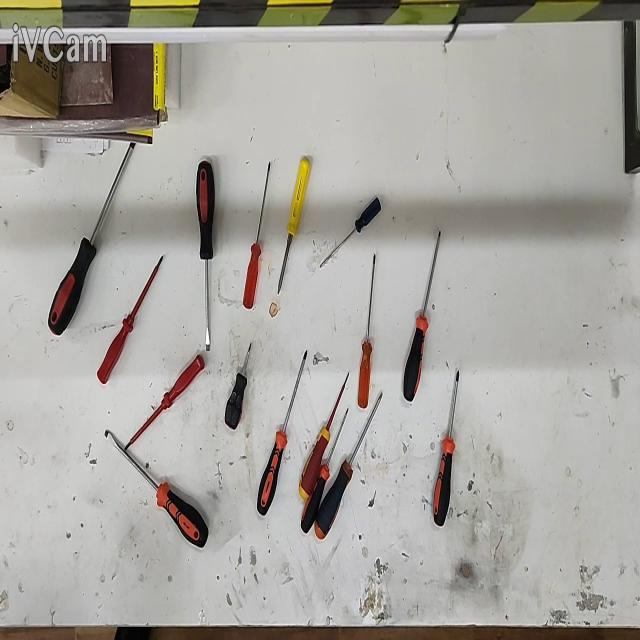Screwdriver: (48, 142, 135, 336), (105, 429, 209, 548), (314, 391, 382, 540), (98, 256, 162, 383), (258, 351, 307, 516), (124, 356, 204, 450), (404, 231, 441, 402), (299, 373, 348, 501), (301, 409, 348, 533), (320, 195, 381, 270), (278, 158, 311, 292), (242, 162, 270, 309), (434, 369, 460, 527), (196, 160, 215, 350), (358, 253, 376, 408), (225, 342, 251, 428)
